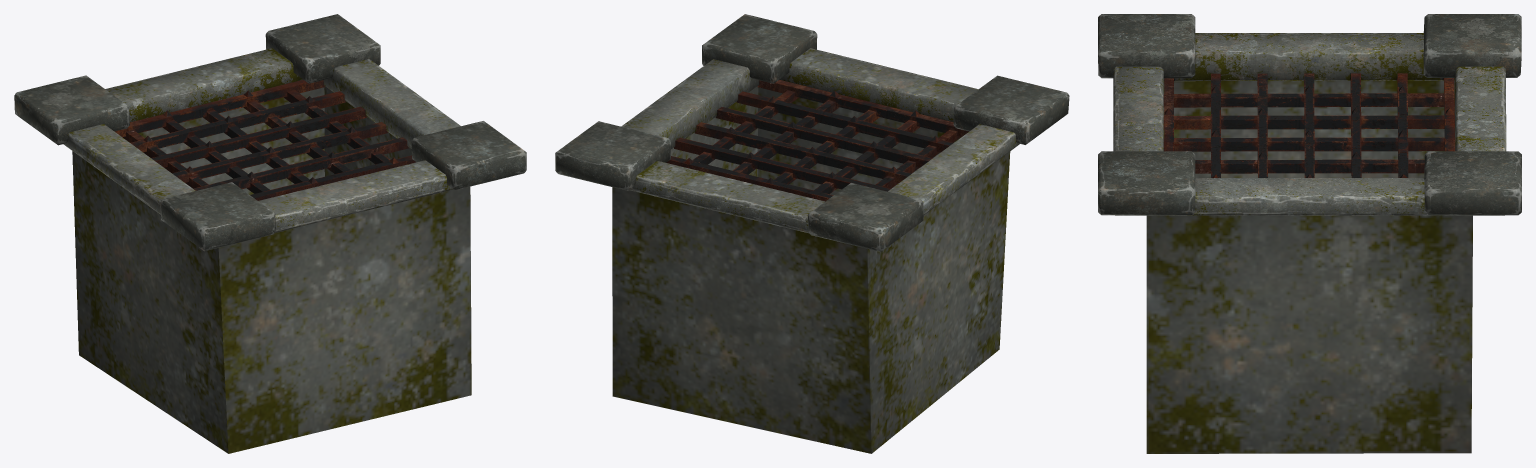
File: SM_Prop_Stone_Well_B.fbx
The picture shows the model from 3 angles, left to right: view 1: azimuth 30°, elevation 25°; view 2: azimuth 150°, elevation 25°; view 3: azimuth 270°, elevation 25°; orthographic projection. The views are drawn at different scales.
Visible parts, largest first — view 1: SM_Prop_Stone_Well_B_LOD0; view 2: SM_Prop_Stone_Well_B_LOD0; view 3: SM_Prop_Stone_Well_B_LOD0.
Part boxes in pixels (x1,y1,x2,y2): SM_Prop_Stone_Well_B_LOD0: [14, 14, 526, 453]; SM_Prop_Stone_Well_B_LOD0: [555, 14, 1069, 453]; SM_Prop_Stone_Well_B_LOD0: [1098, 14, 1521, 453].
Bounding box in the file's own units: 443 × 445 × 327.
1 material, 1 textured.
